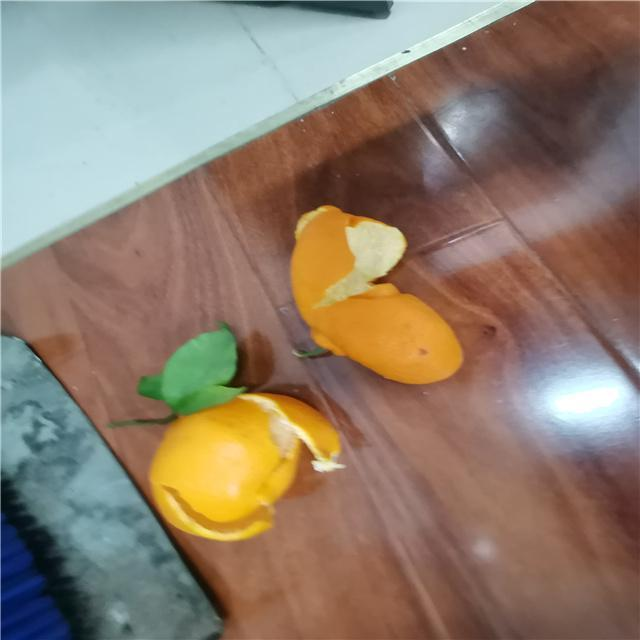orange-peel: (288, 202, 464, 386), (147, 389, 344, 542)
